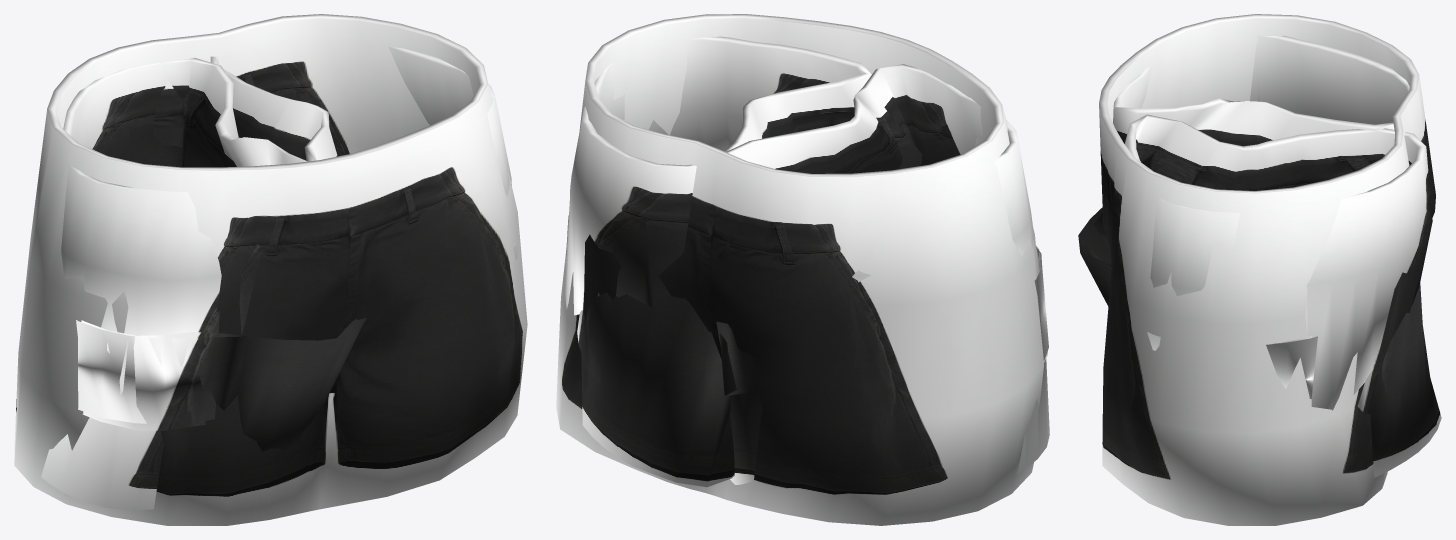
Rendered from 3bcb8573-2b5c-4029-a0be-c2dd4d202b27.glb.
The picture shows the model from 3 angles, left to right: view 1: azimuth 30°, elevation 25°; view 2: azimuth 150°, elevation 25°; view 3: azimuth 270°, elevation 25°; orthographic projection. The views are drawn at different scales.
Parts seen in each view (by area): view 1: garment_leg0; view 2: garment_leg0; view 3: garment_leg0.
Part boxes in pixels (x1=…): garment_leg0: x1=14, y1=14, x2=527, y2=525; garment_leg0: x1=556, y1=14, x2=1049, y2=525; garment_leg0: x1=1078, y1=14, x2=1441, y2=525.
Bounding box in the file's own units: 0.4227 × 0.3242 × 0.3108.
1 material, 1 textured.
